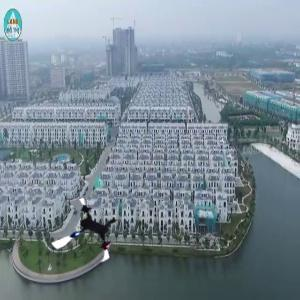drone: (49, 195, 125, 271)
